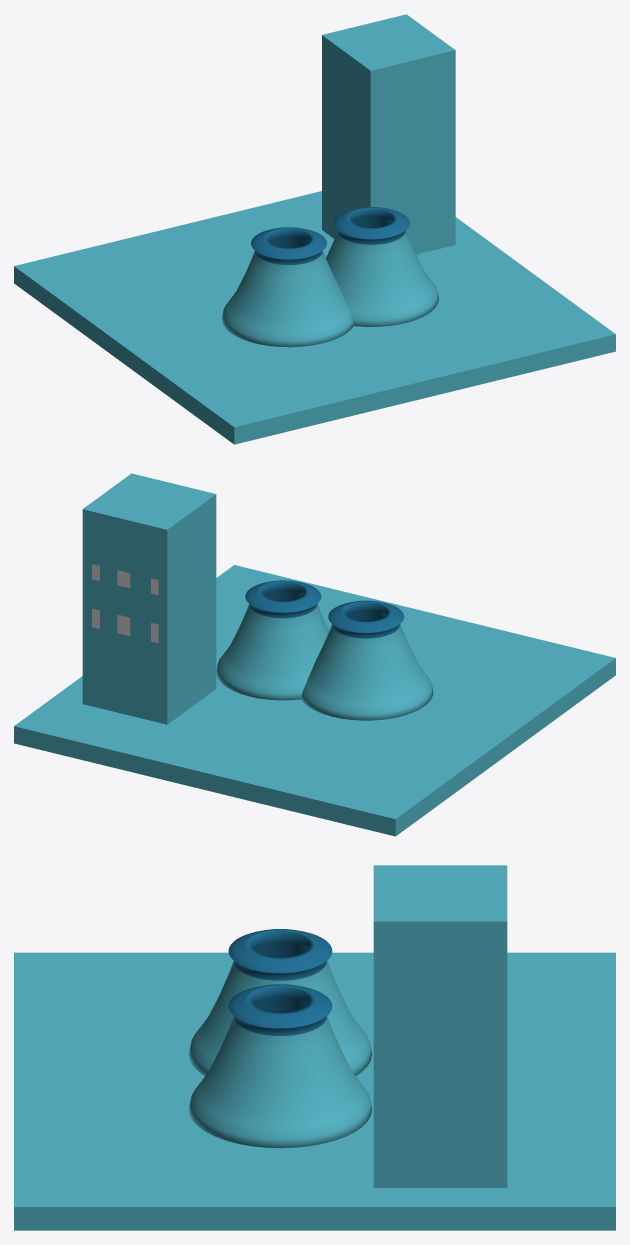
The model's file is factory_building-3.gltf.
The picture shows the model from 3 angles, top to bottom: view 1: azimuth 30°, elevation 25°; view 2: azimuth 150°, elevation 25°; view 3: azimuth 270°, elevation 25°; orthographic projection. The views are drawn at different scales.
Visible parts, largest first — view 1: pCube17, pCube25, pCylinder11, pCylinder16; view 2: pCube17, pCube25, pCylinder11, pCylinder16; view 3: pCube17, pCube25, pCylinder16, pCylinder11.
Boxes of the visible parts, x1,y1,x2,y2 form: pCube17: [14, 191, 615, 444]; pCube25: [322, 14, 455, 254]; pCylinder11: [222, 227, 353, 347]; pCylinder16: [326, 207, 438, 326]; pCube17: [14, 565, 615, 836]; pCube25: [82, 473, 216, 724]; pCylinder11: [301, 600, 433, 720]; pCylinder16: [216, 580, 329, 700]; pCube17: [14, 952, 615, 1230]; pCube25: [373, 865, 507, 1187]; pCylinder16: [189, 984, 371, 1148]; pCylinder11: [189, 929, 371, 1075].
Bounding box in the file's own units: 1.47 × 0.7816 × 1.47.
